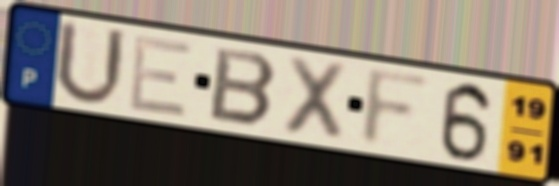6: (440, 80, 497, 165)
B: (205, 43, 281, 129)
E: (125, 33, 196, 121)
F: (356, 65, 437, 151)
U: (51, 17, 130, 109)
X: (278, 51, 352, 146)
